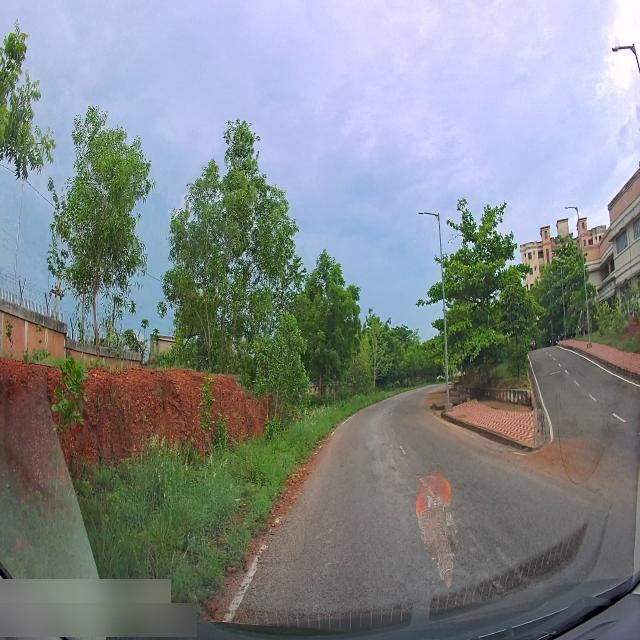pothole: (385, 440, 412, 487), (483, 540, 517, 568)
